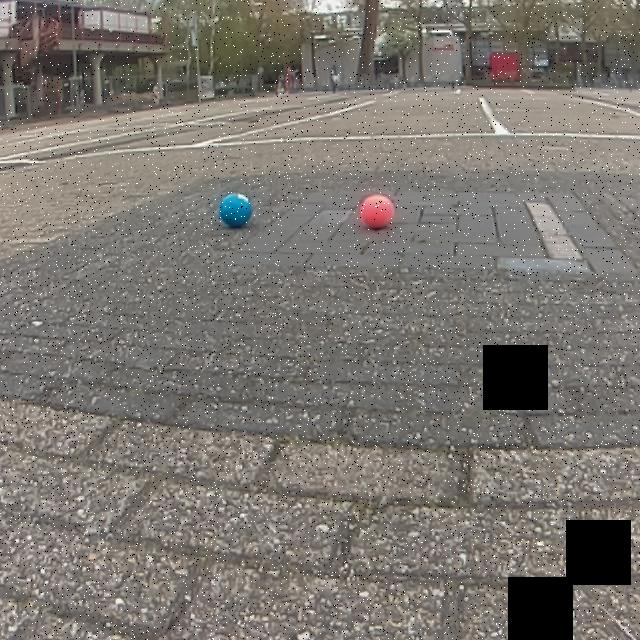ball: (217, 189, 256, 231), (358, 193, 396, 232)
